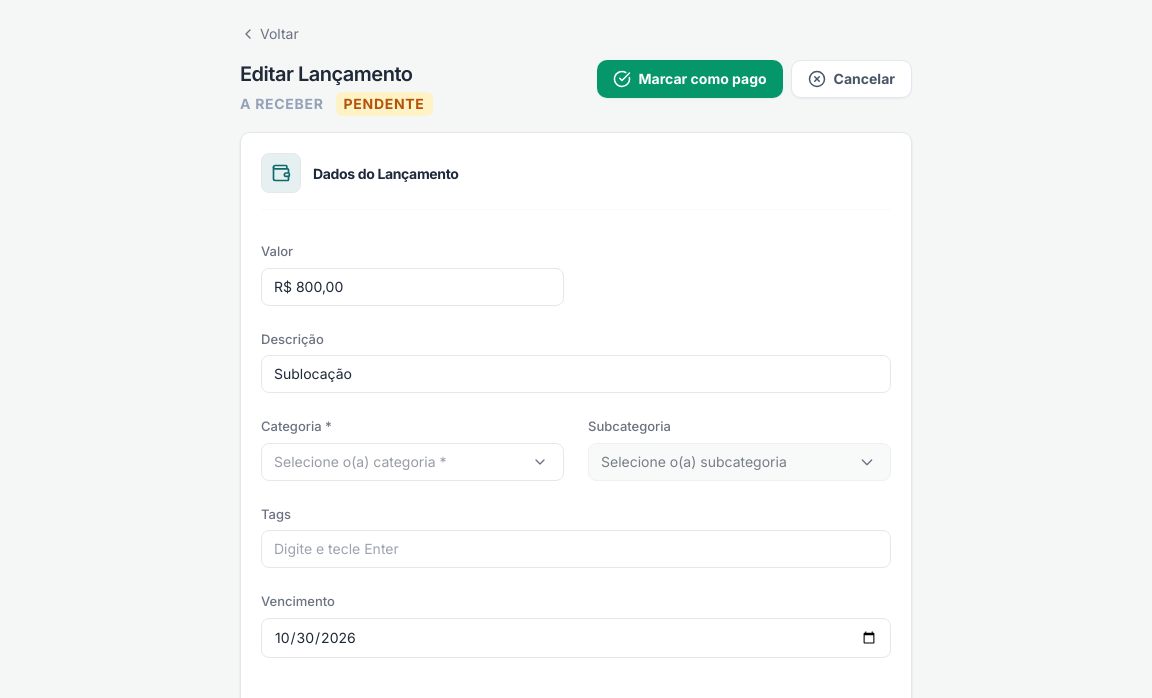
<FinancialEntryEdit> › marcar como pago abre o diálogo pedindo forma de pagamento
Click the button "Marcar como pago". click: [690, 79]
box: x1=596 y1=60 x2=783 y2=98
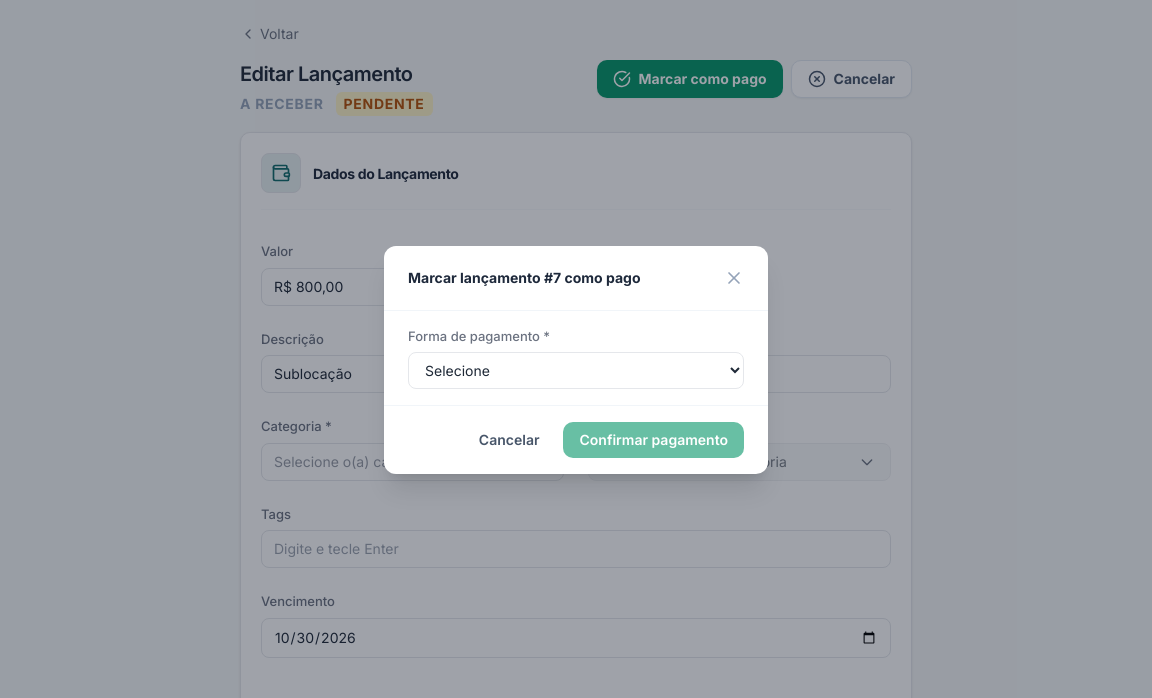
Result: the heading "Marcar lançamento #7 como pago" is shown at x1=408 y1=267 x2=640 y2=288
Result: the dropdown labelled "Forma de pagamento *" is shown at x1=408 y1=352 x2=744 y2=389
